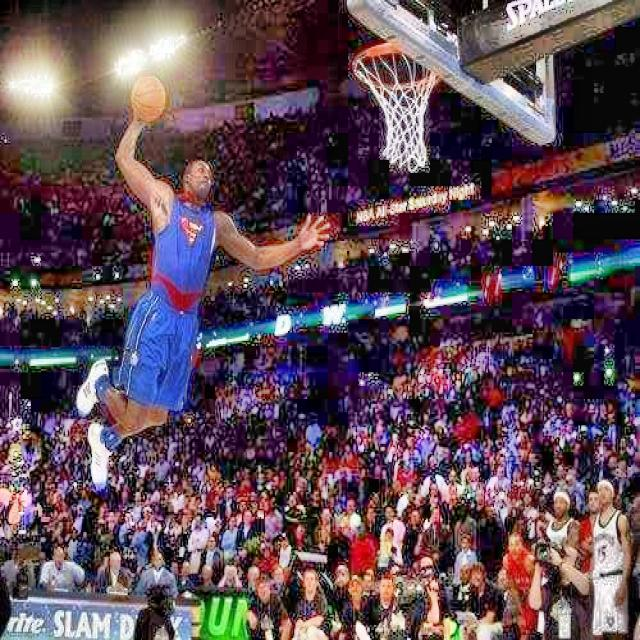board: (130, 75, 166, 123)
rim: (353, 45, 442, 168)
